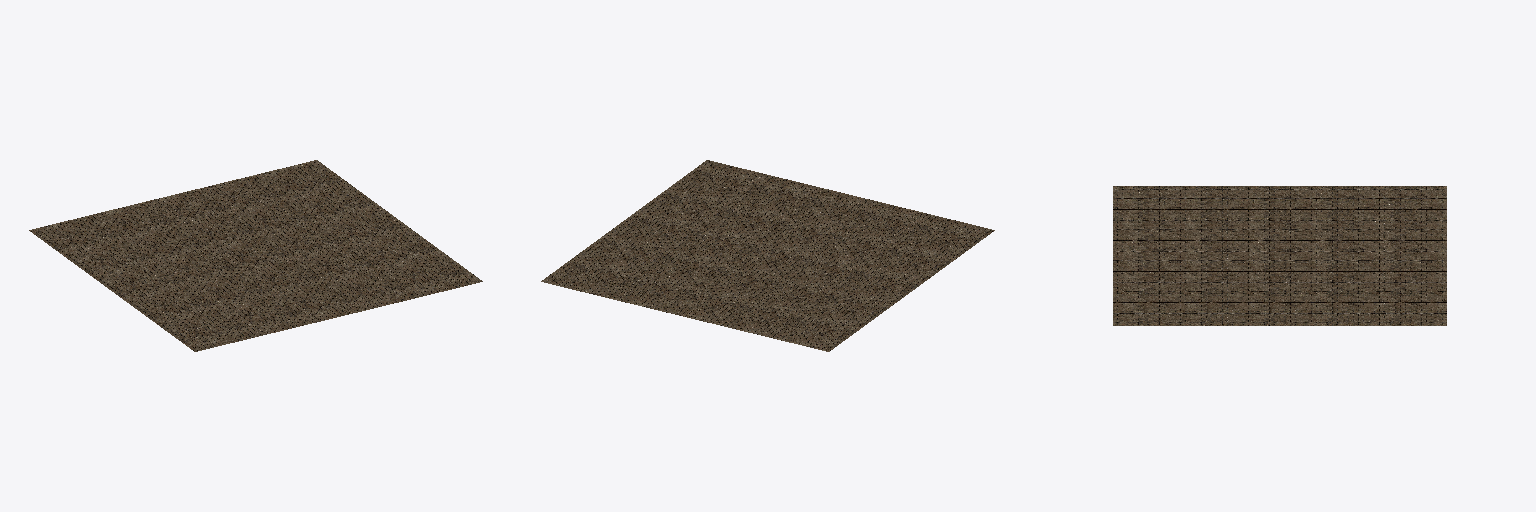
3 views of the same model, side by side, from view 1: azimuth 30°, elevation 25°; view 2: azimuth 150°, elevation 25°; view 3: azimuth 270°, elevation 25° (orthographic).
Visible parts, largest first — view 1: Plane; view 2: Plane; view 3: Plane.
Boxes of the visible parts, x1,y1,x2,y2 form: Plane: [29, 160, 482, 351]; Plane: [541, 160, 994, 351]; Plane: [1113, 186, 1446, 325].
Bounding box in the file's own units: 9.12 × 0 × 9.12.
Materials: 1 (1 with a texture image).